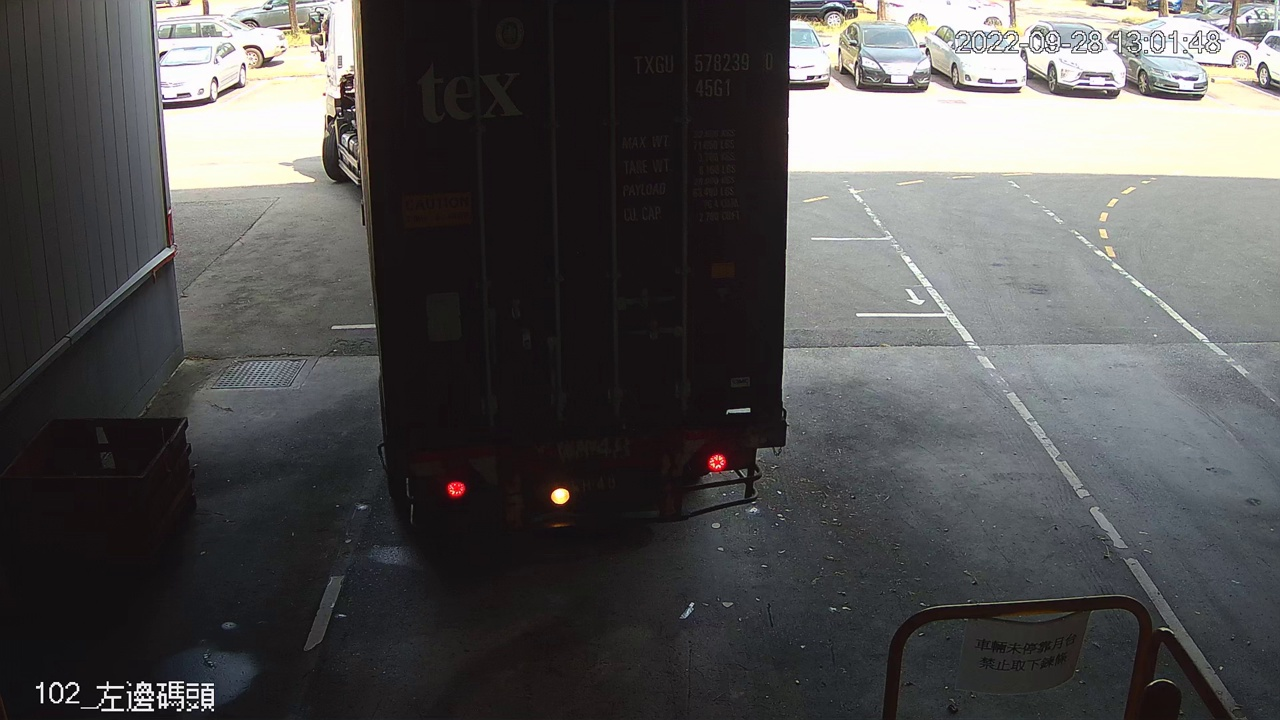container: (626, 45, 781, 103)
